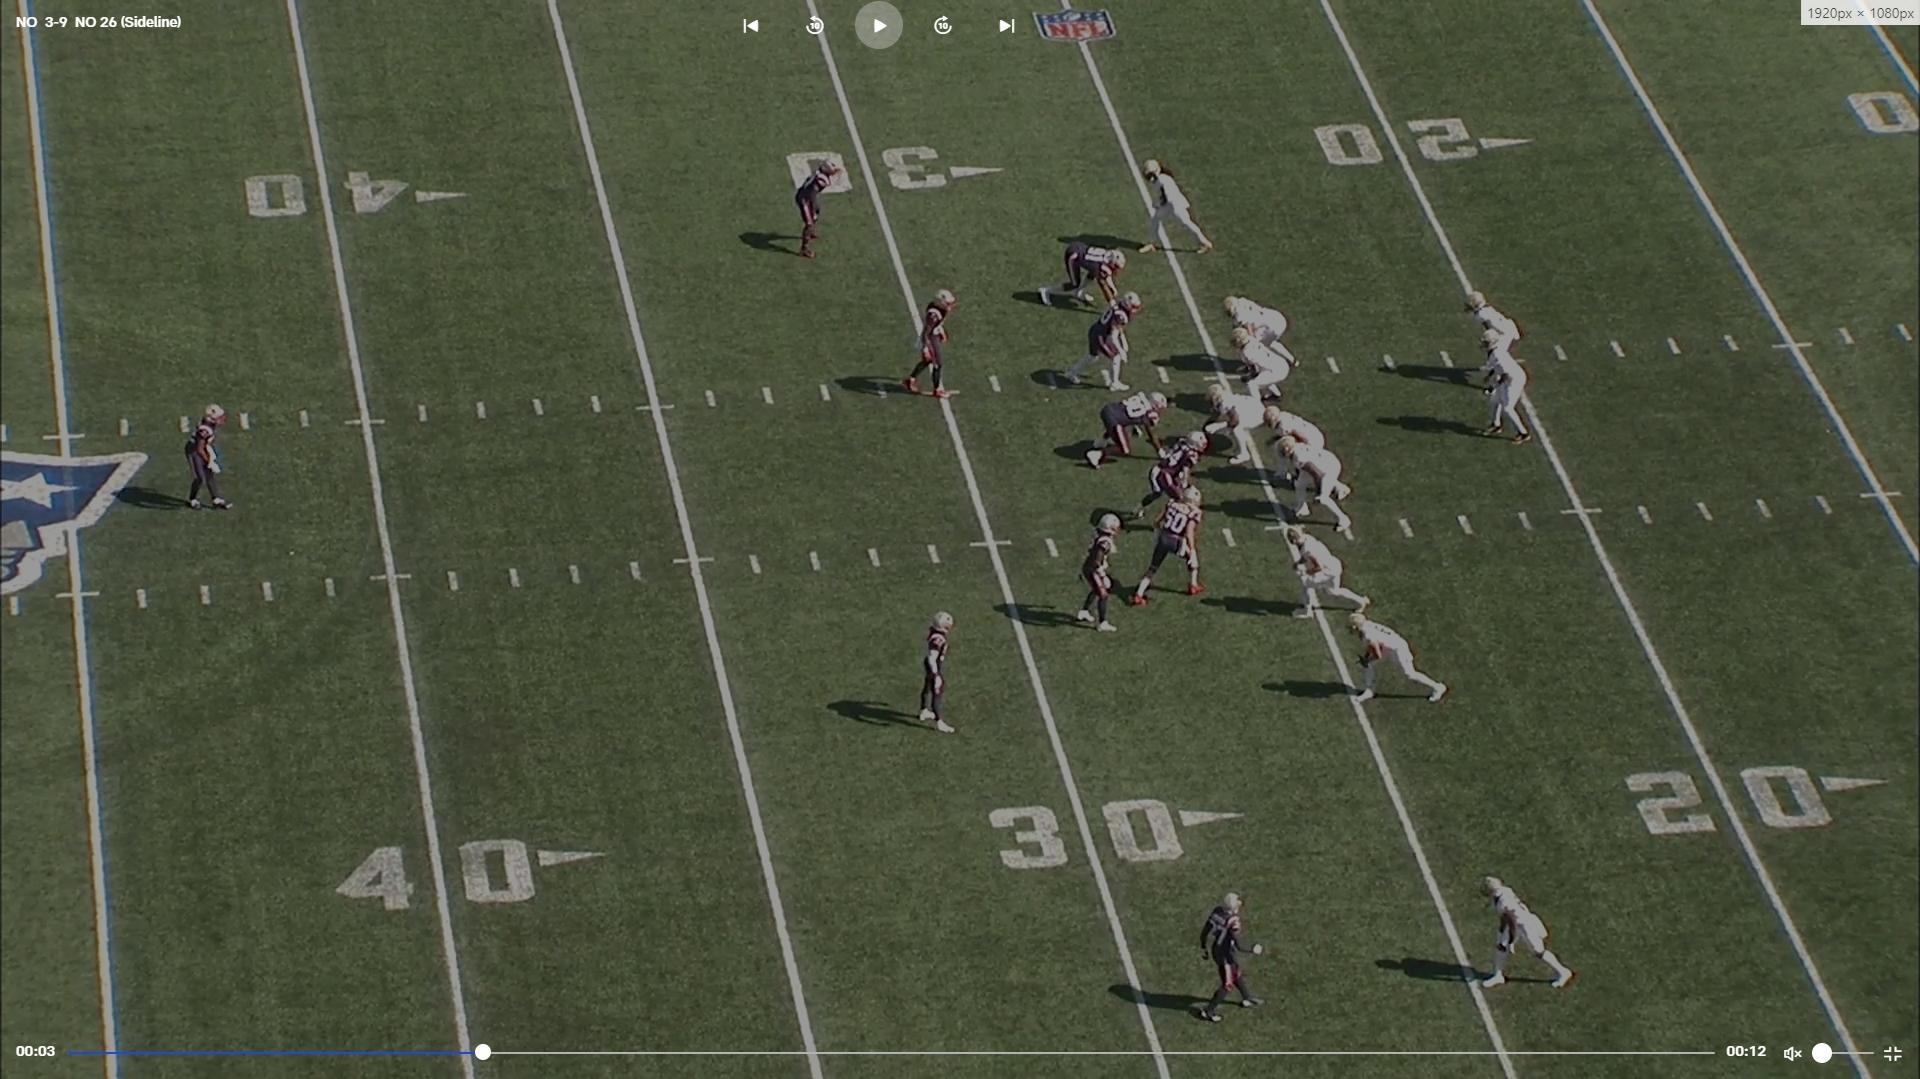defense: (1193, 886, 1266, 1028), (1126, 492, 1204, 612), (1063, 290, 1145, 394), (1069, 510, 1130, 640), (1133, 429, 1211, 528), (901, 285, 961, 408), (1080, 389, 1171, 471), (793, 152, 855, 270), (1035, 239, 1133, 311), (915, 604, 965, 741), (186, 401, 241, 518)
oline: (1278, 430, 1357, 539), (1205, 385, 1279, 471), (1263, 408, 1324, 497), (1234, 331, 1295, 404), (1222, 293, 1294, 346)
qb: (1478, 335, 1535, 450)
skill: (1474, 872, 1573, 996), (1341, 611, 1451, 710), (1288, 528, 1379, 624), (1139, 154, 1218, 257), (1470, 293, 1524, 397)
